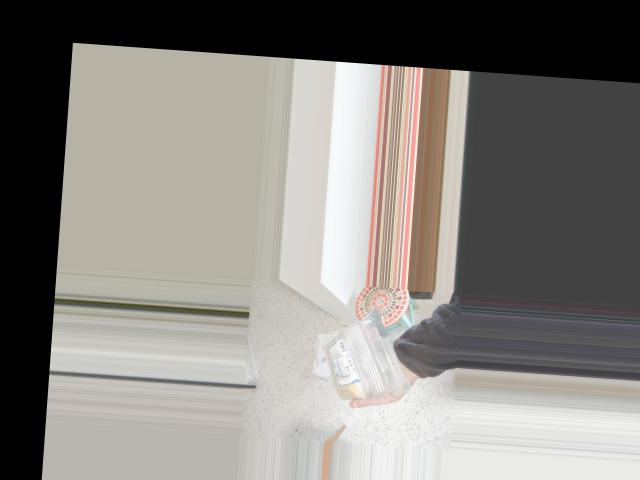cheese: (304, 299, 416, 401)
